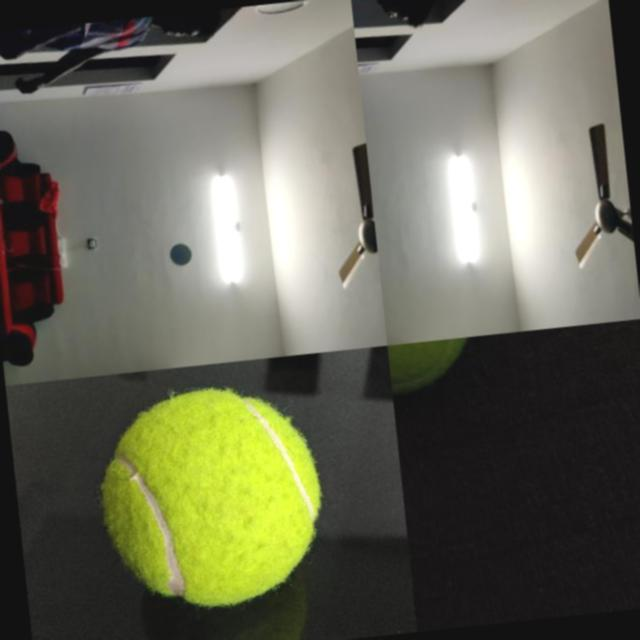Tennis Ball: (91, 374, 334, 617), (168, 242, 192, 266)
